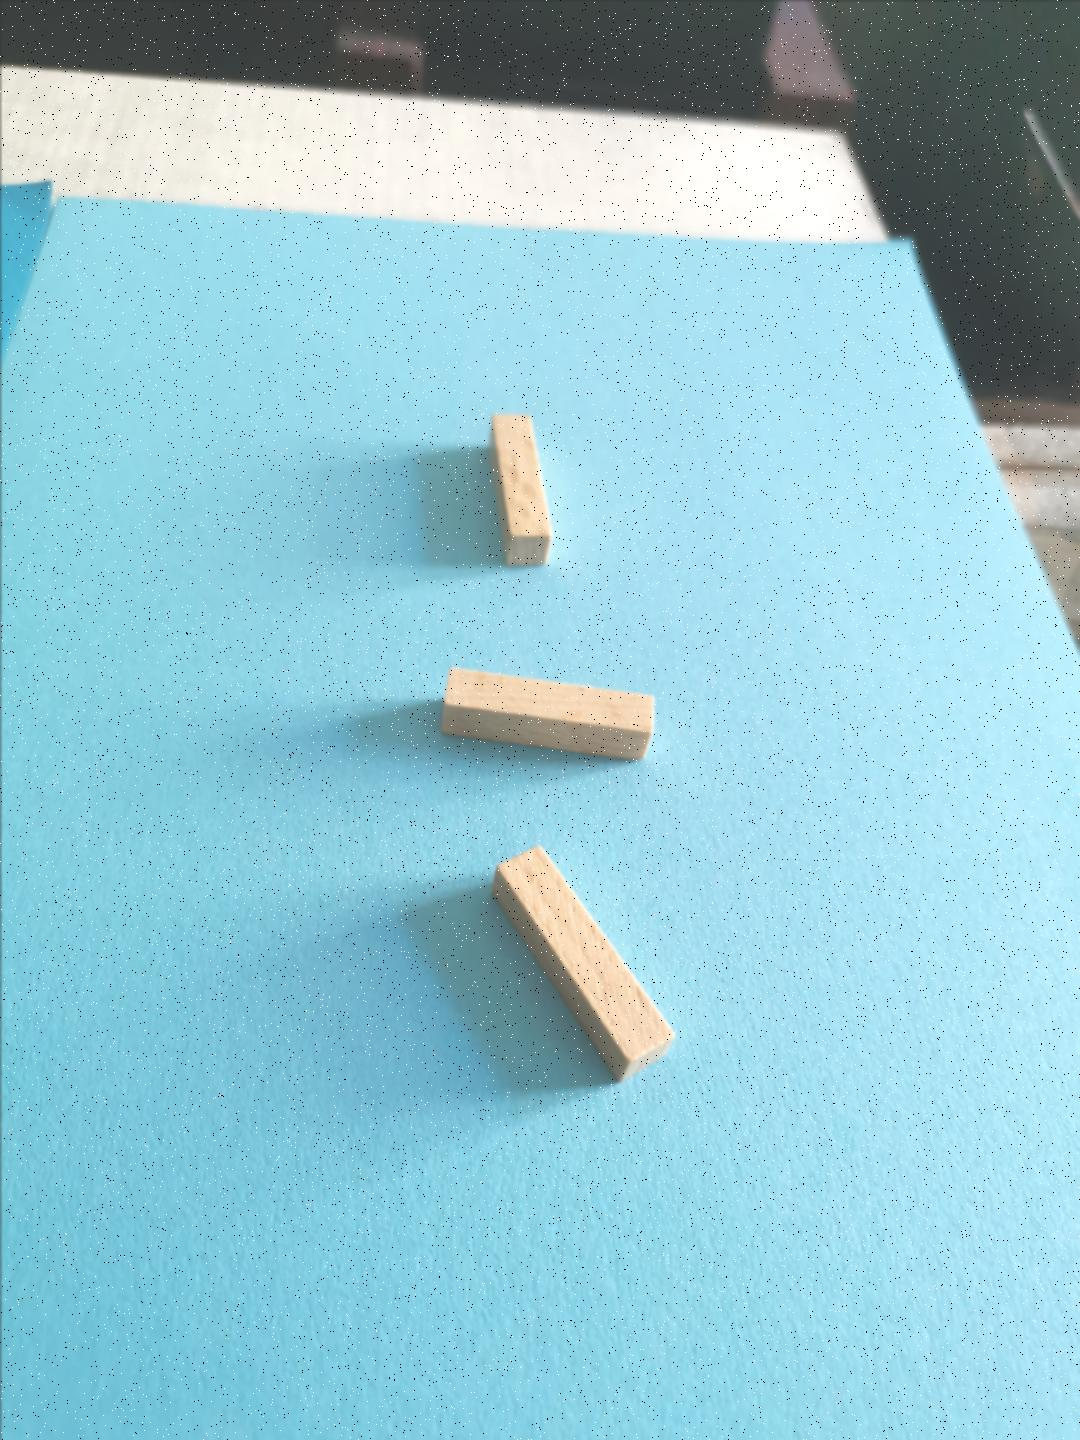jenga: (492, 847, 673, 1079), (441, 667, 652, 760), (489, 414, 551, 566)
